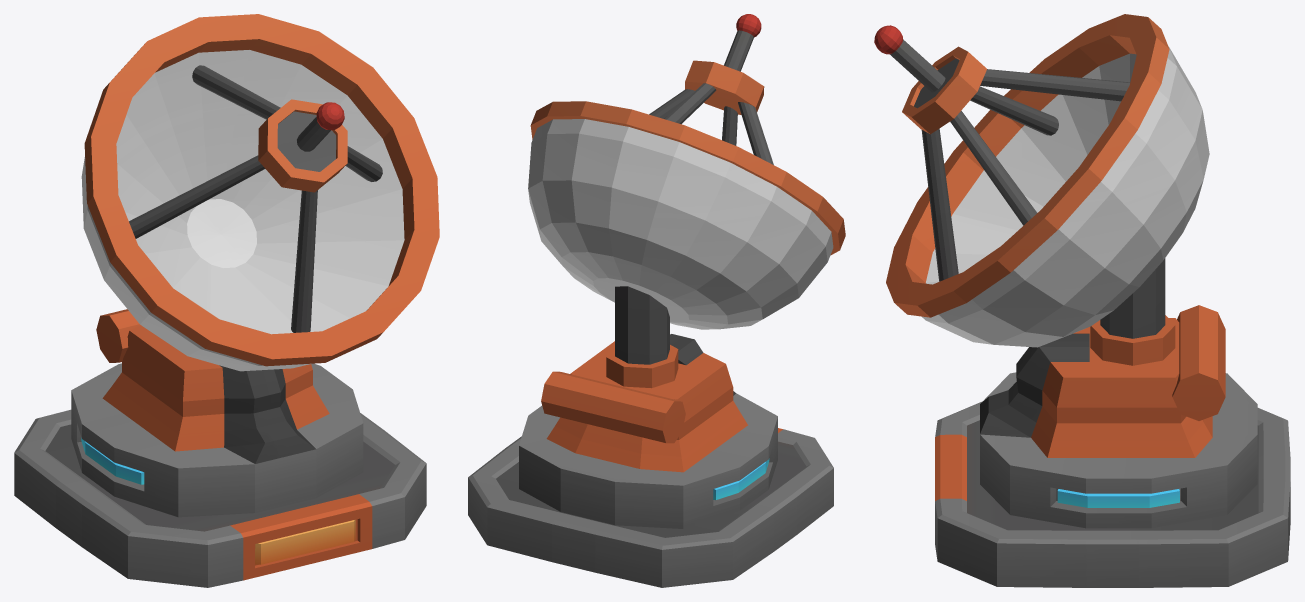
Rendered from SatelliteDish.obj.
3 views of the same model, side by side, from view 1: azimuth 30°, elevation 25°; view 2: azimuth 150°, elevation 25°; view 3: azimuth 270°, elevation 25° (orthographic). The views are drawn at different scales.
Parts seen in each view (by area): view 1: SatelliteDish; view 2: SatelliteDish; view 3: SatelliteDish.
Part boxes in pixels (bbox=[...]): SatelliteDish: bbox=[14, 14, 439, 587]; SatelliteDish: bbox=[468, 14, 845, 587]; SatelliteDish: bbox=[874, 14, 1290, 587].
Size of the model in its own units: 19.92 by 28.35 by 22.
